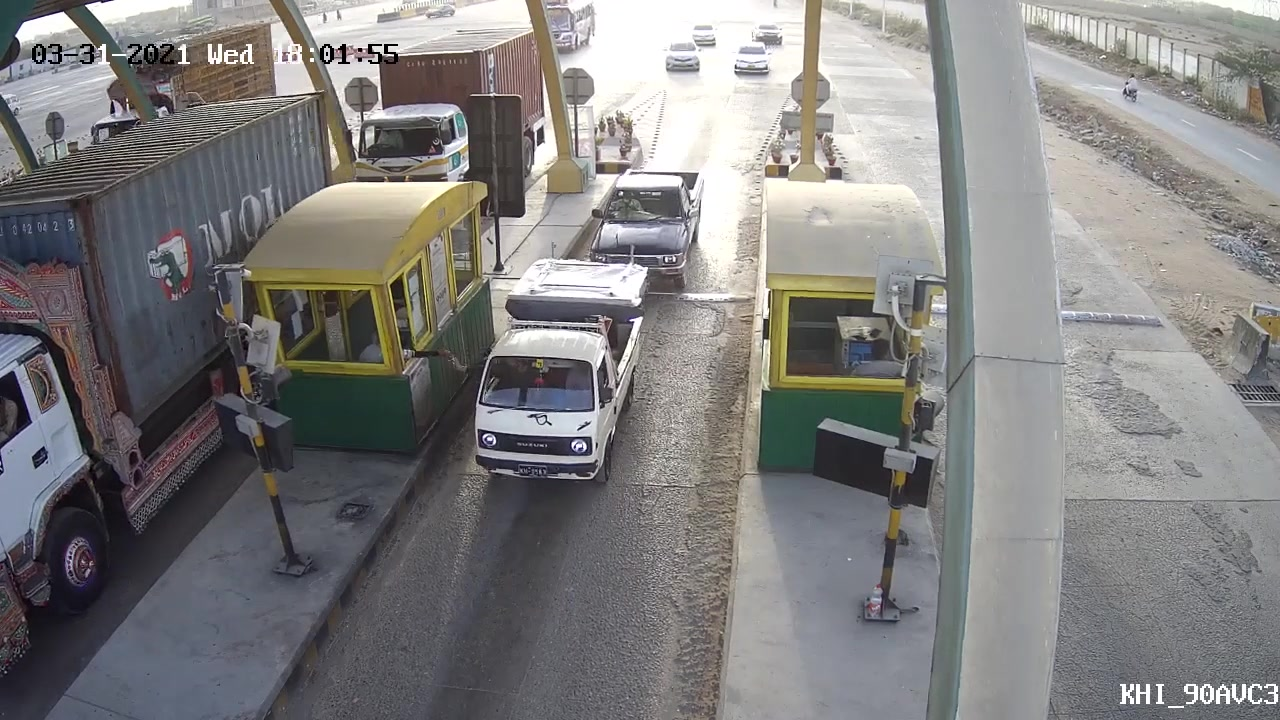F1: (458, 258, 659, 481)
